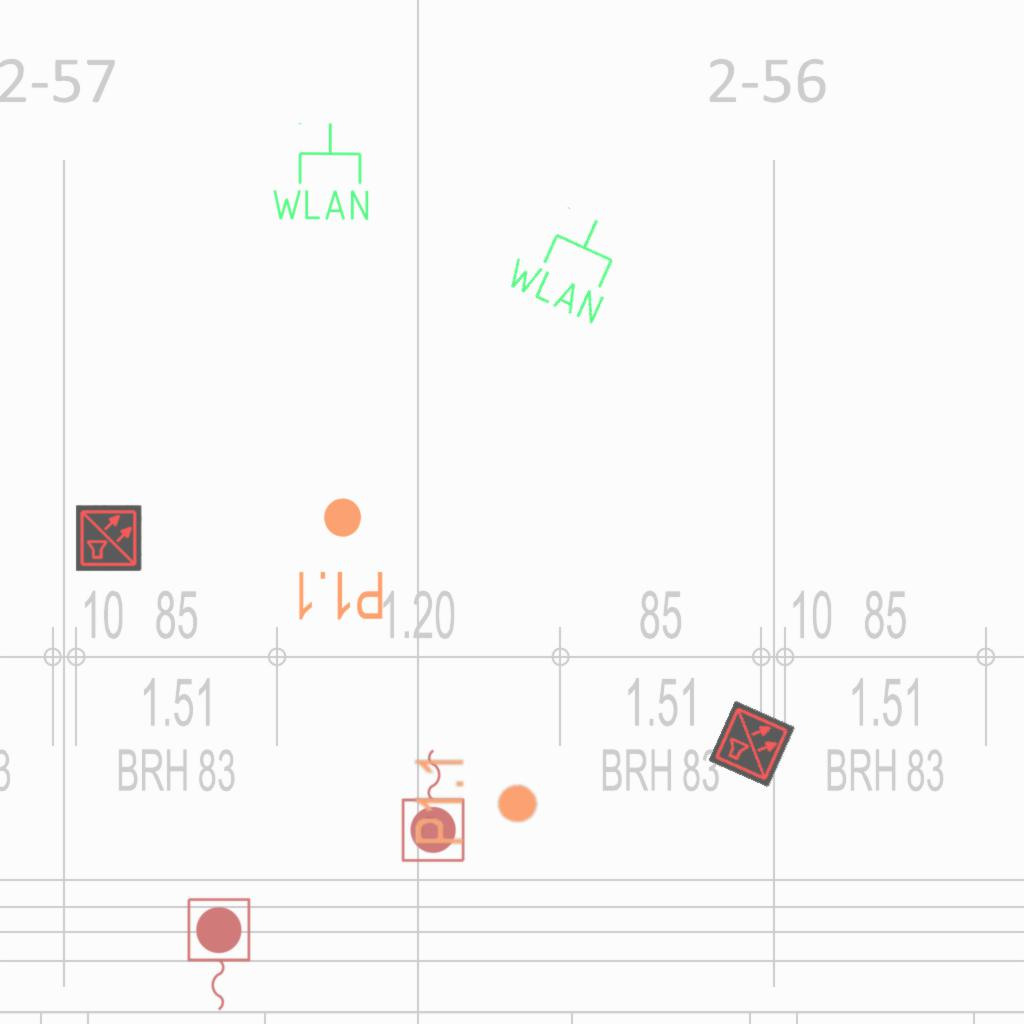Downlight_LED_Einbauleuchten_Flur: (293, 495, 386, 623), (412, 754, 540, 847)
OKW_Multisensormelder_(Kombination_optischer_Rauch-Kahlenmonoxid_Waerme-Melder): (708, 700, 796, 788), (76, 505, 142, 571)
WLAN: (498, 191, 638, 330), (268, 120, 373, 224)
Zugtaster: (182, 894, 254, 1016), (398, 744, 470, 866)
